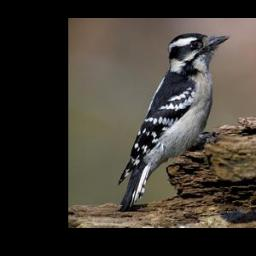Woodpecker: (117, 30, 230, 214)
